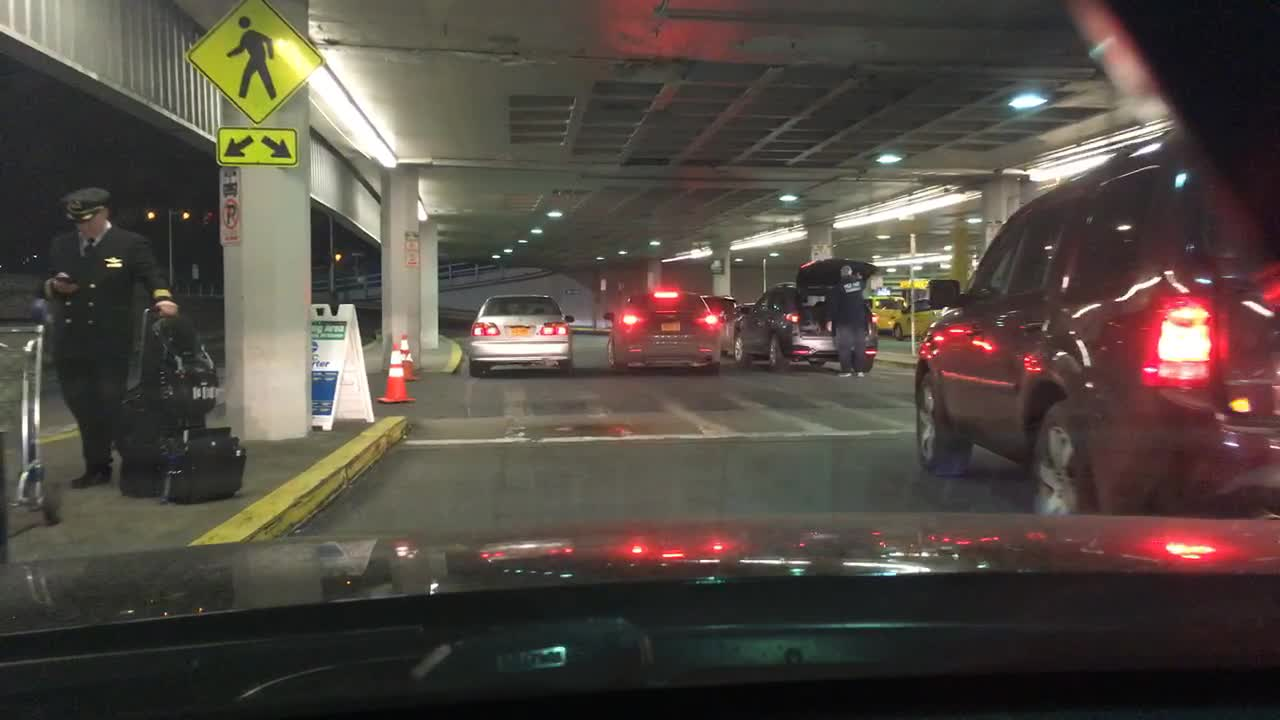car: (914, 124, 1279, 522), (733, 257, 880, 375), (603, 286, 722, 374), (466, 293, 576, 377), (870, 276, 944, 340), (701, 296, 741, 358)
person: (37, 186, 179, 488), (825, 267, 870, 376)
traffic sign: (184, 0, 324, 125), (215, 124, 295, 164), (216, 166, 242, 246), (404, 229, 422, 266)
